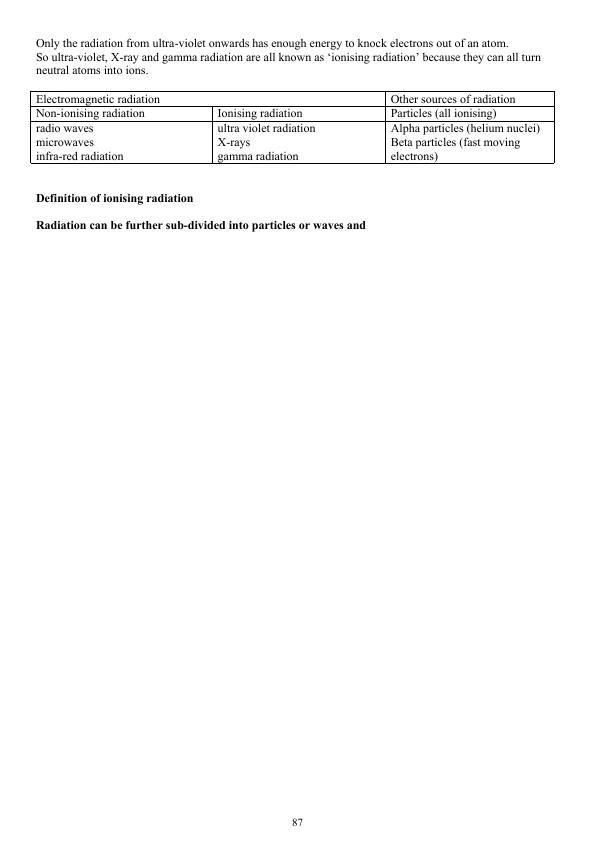table: (25, 87, 563, 173)
text: (31, 34, 547, 80), (31, 213, 371, 235), (34, 191, 197, 207)
